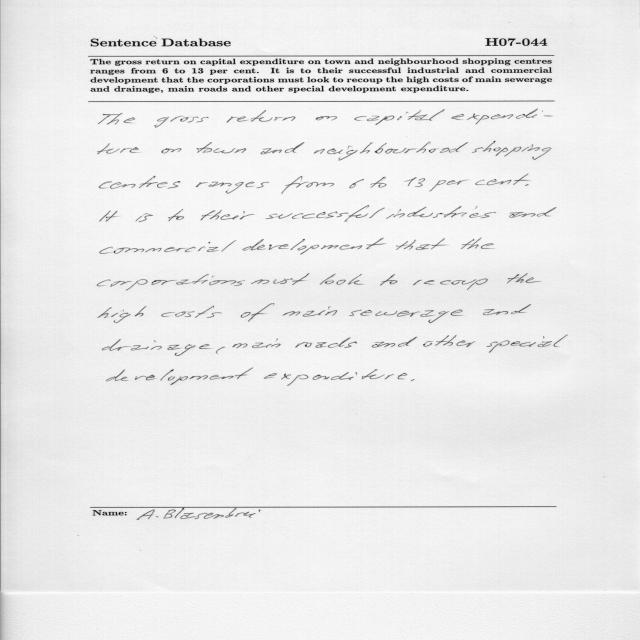word: (314, 142, 468, 161), (97, 274, 245, 291), (106, 368, 253, 385), (242, 238, 386, 255), (264, 369, 407, 386), (266, 205, 385, 222), (100, 240, 236, 254), (102, 339, 211, 356), (452, 109, 553, 124), (472, 141, 551, 160), (349, 310, 463, 323), (487, 335, 568, 353), (354, 109, 445, 125), (386, 206, 496, 219), (100, 176, 181, 189), (281, 176, 334, 194), (413, 278, 488, 290), (227, 110, 296, 123), (196, 182, 270, 194), (98, 306, 146, 323), (161, 306, 222, 318), (251, 273, 309, 285), (295, 337, 357, 348), (476, 174, 530, 186), (423, 335, 476, 347), (396, 238, 447, 250), (154, 116, 209, 127), (241, 304, 274, 322), (283, 306, 337, 317), (197, 142, 247, 153), (201, 210, 255, 220), (261, 142, 305, 154), (483, 304, 531, 315), (509, 207, 556, 218), (372, 337, 417, 348), (232, 339, 281, 349), (320, 274, 364, 285), (429, 180, 468, 192), (98, 144, 139, 155), (98, 113, 135, 124), (507, 273, 541, 284), (461, 238, 494, 249), (404, 177, 425, 187), (100, 211, 118, 222), (380, 274, 398, 285), (168, 209, 184, 221), (371, 177, 387, 188), (135, 214, 153, 223), (349, 179, 364, 188), (161, 149, 182, 154), (316, 116, 337, 120), (216, 347, 225, 354), (411, 379, 415, 381)
